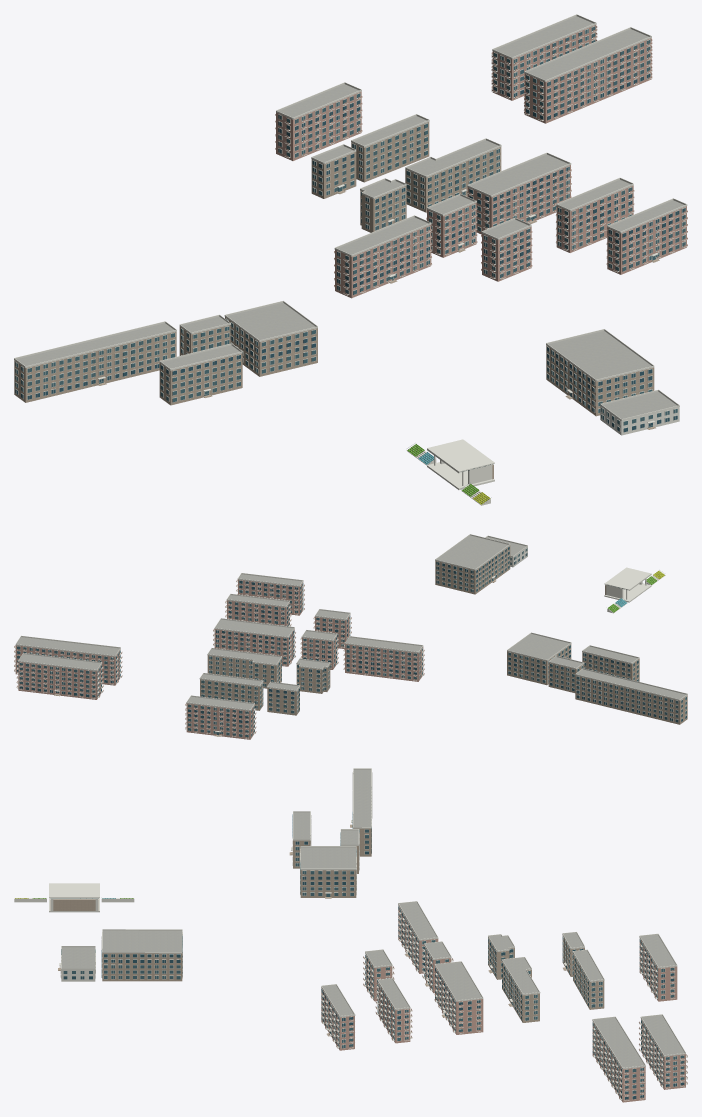
The model's file is chunk-n1-n1.glb.
The picture shows the model from 3 angles, top to bottom: view 1: azimuth 30°, elevation 25°; view 2: azimuth 150°, elevation 25°; view 3: azimuth 270°, elevation 25°; orthographic projection. The views are drawn at different scales.
Parts seen in each view (by area): view 1: chunk-n1-n1; view 2: chunk-n1-n1; view 3: chunk-n1-n1.
Boxes of the visible parts, <box> form: chunk-n1-n1: <box>14,14,687,505</box>; chunk-n1-n1: <box>14,534,687,739</box>; chunk-n1-n1: <box>14,768,687,1102</box>.
Size of the model in its own units: 406 by 28.42 by 372.
11 materials, 2 textured.
